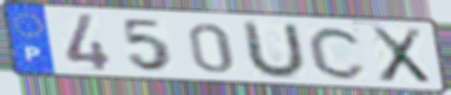0: (185, 21, 238, 74)
4: (62, 11, 114, 74)
5: (122, 17, 175, 72)
C: (306, 24, 370, 82)
U: (242, 19, 309, 81)
X: (366, 25, 433, 86)
